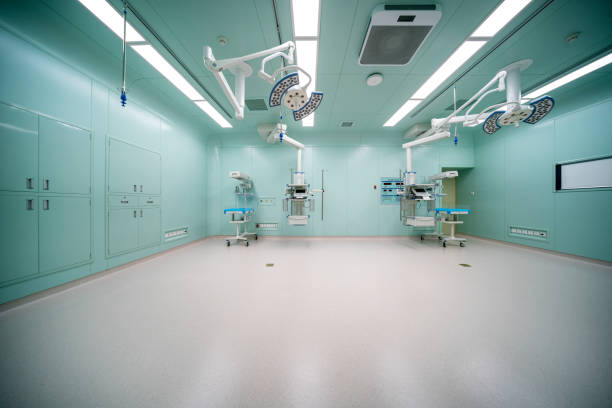cabinet: (1, 102, 90, 286), (105, 140, 160, 258)
handle: (20, 174, 35, 190), (23, 197, 36, 212), (39, 176, 51, 192), (138, 208, 146, 221), (129, 183, 138, 194), (43, 201, 51, 213), (139, 182, 145, 196), (130, 210, 137, 220)
panda_baby_warmer: (428, 169, 470, 248), (224, 170, 258, 250)
surgical_light: (482, 93, 559, 135), (268, 72, 324, 122)
